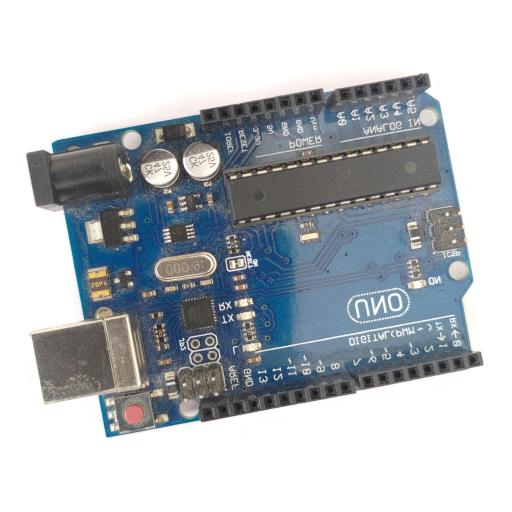Arduino Uno R3: (25, 72, 485, 438)
